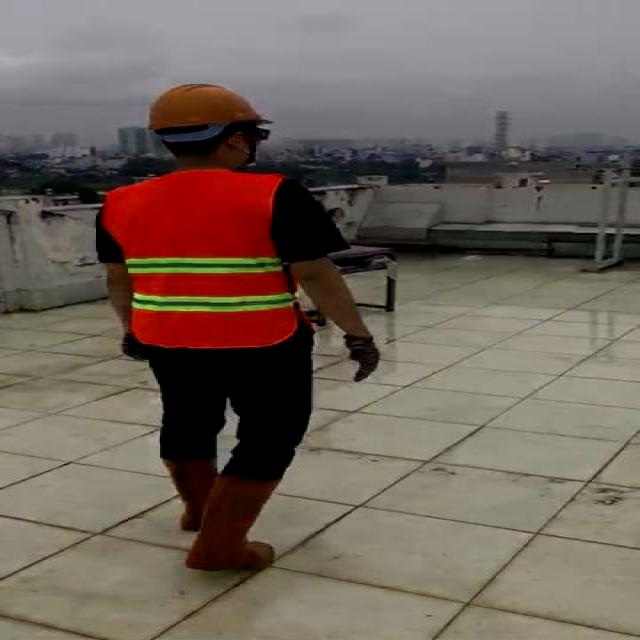boots: (185, 477, 284, 573), (156, 453, 214, 532)
hand_glove: (343, 331, 379, 379), (121, 337, 151, 366)
head_helmet: (135, 82, 277, 136)
person: (86, 82, 396, 575)
vest: (102, 169, 294, 344)
